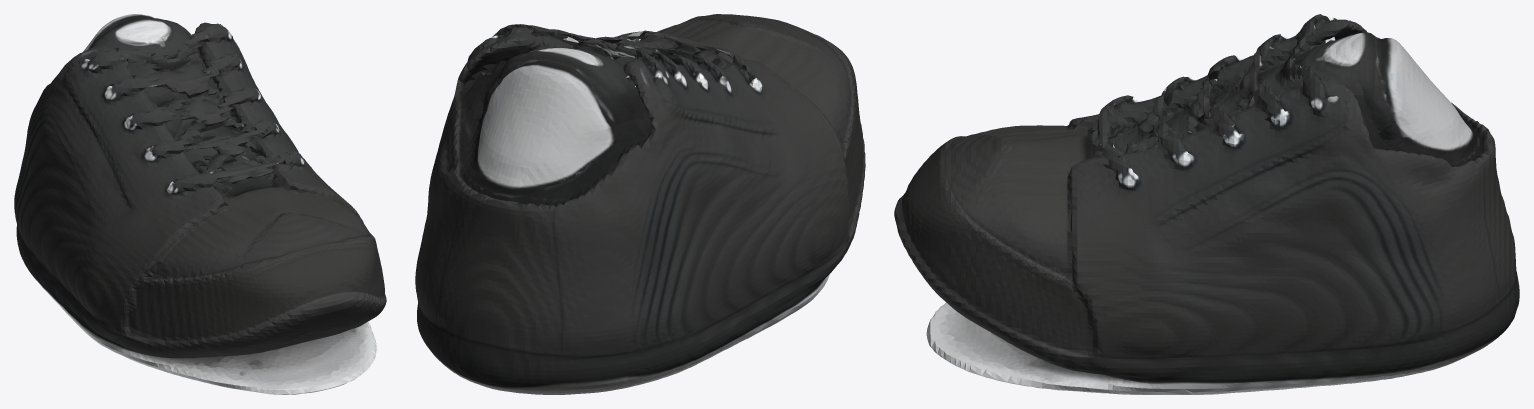
Rendered from cd07b751-2a5d-478d-914c-6fdcefd9c117_result.glb.
The picture shows the model from 3 angles, left to right: view 1: azimuth 30°, elevation 25°; view 2: azimuth 150°, elevation 25°; view 3: azimuth 270°, elevation 25°; orthographic projection. The views are drawn at different scales.
Parts seen in each view (by area): view 1: tmpru4rn97f.ply; view 2: tmpru4rn97f.ply; view 3: tmpru4rn97f.ply.
Part boxes in pixels (left/top/right/bottom): tmpru4rn97f.ply: left=14, top=14, right=386, bottom=394; tmpru4rn97f.ply: left=415, top=14, right=865, bottom=394; tmpru4rn97f.ply: left=894, top=14, right=1519, bottom=394.
Bounding box in the file's own units: 1.11 × 1 × 1.93.
1 material, 1 textured.
